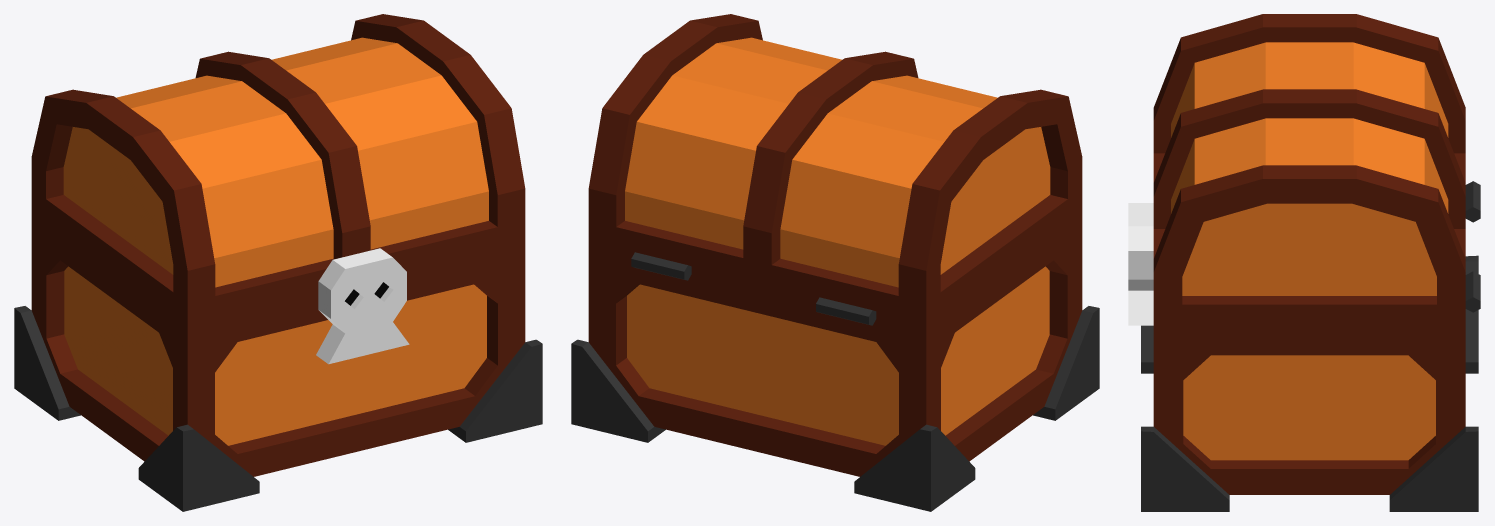
Rendered from Props_Treasure Chest (1).fbx.
The picture shows the model from 3 angles, left to right: view 1: azimuth 30°, elevation 25°; view 2: azimuth 150°, elevation 25°; view 3: azimuth 270°, elevation 25°; orthographic projection.
Parts seen in each view (by area): view 1: Box002, Cylinder002; view 2: Box002, Cylinder002; view 3: Box002, Cylinder002.
Boxes of the visible parts, x1,y1,x2,y2 form: Box002: (31,14,525,327); Cylinder002: (14,213,542,511); Box002: (588,14,1082,327); Cylinder002: (571,213,1099,511); Box002: (1153,14,1465,329); Cylinder002: (1128,181,1480,511).
Bounding box in the file's own units: 54.71 × 47.59 × 46.37.
